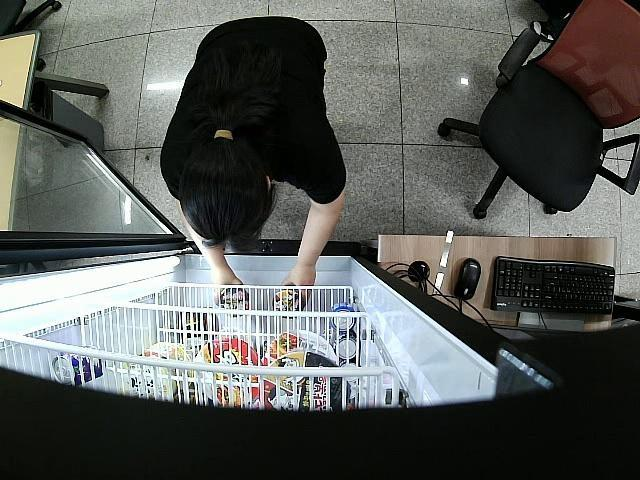08_buldak_S: (270, 284, 305, 321), (219, 285, 251, 320)
